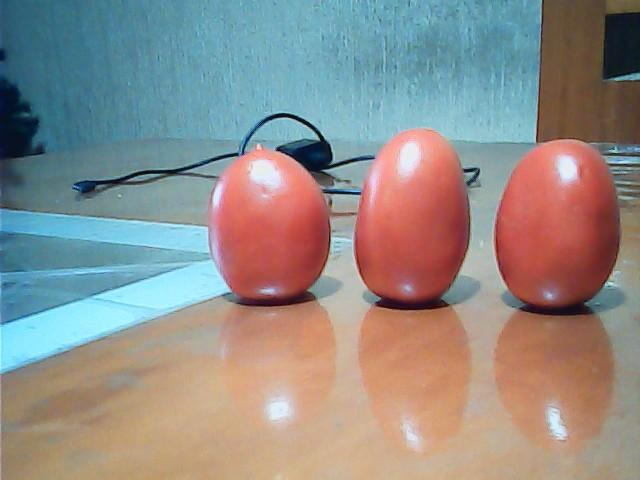maduro: (493, 138, 620, 310), (355, 128, 471, 306), (208, 150, 329, 300)
